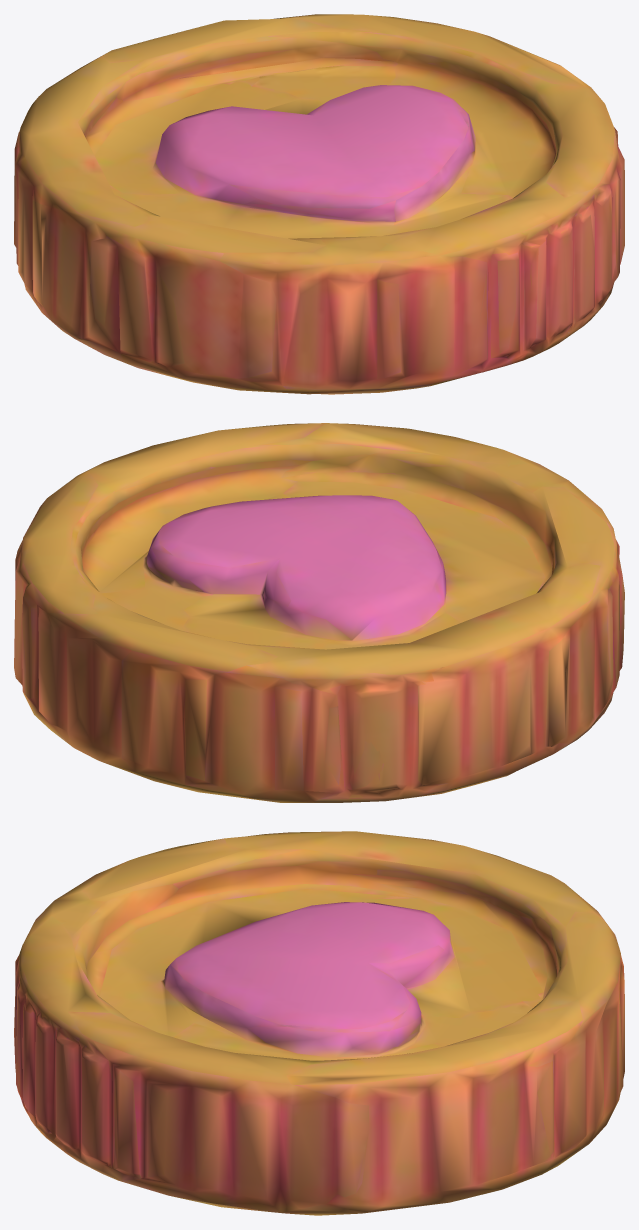
3 views of the same model, one above another, from view 1: azimuth 30°, elevation 25°; view 2: azimuth 150°, elevation 25°; view 3: azimuth 270°, elevation 25° (orthographic).
Visible parts, largest first — view 1: material; view 2: material; view 3: material.
Part boxes in pixels (x1,y1,x2,y2): material: (14,14,624,394); material: (14,423,624,802); material: (14,831,624,1215).
Size of the model in its own units: 1 by 0.2531 by 0.9989.
Materials: 1 (1 with a texture image).
